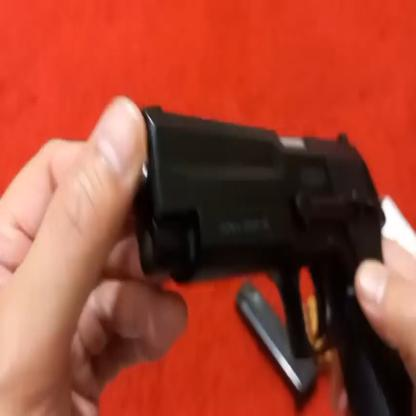handgun: (131, 87, 396, 360)
